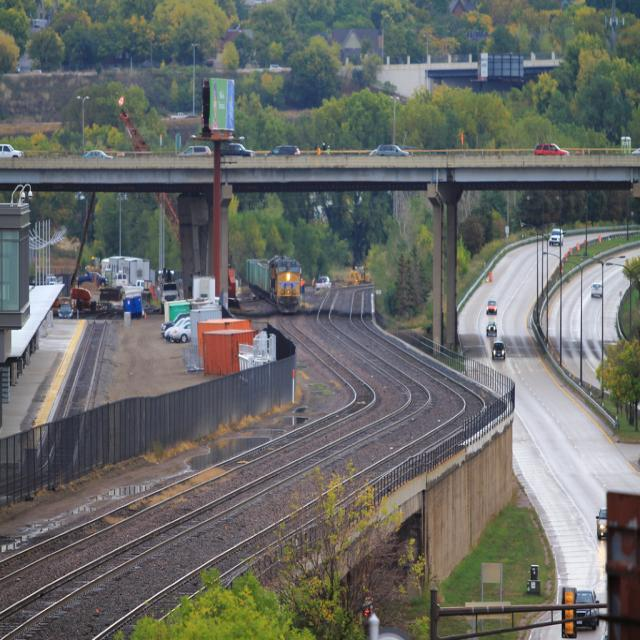locomotive: (268, 252, 304, 318)
